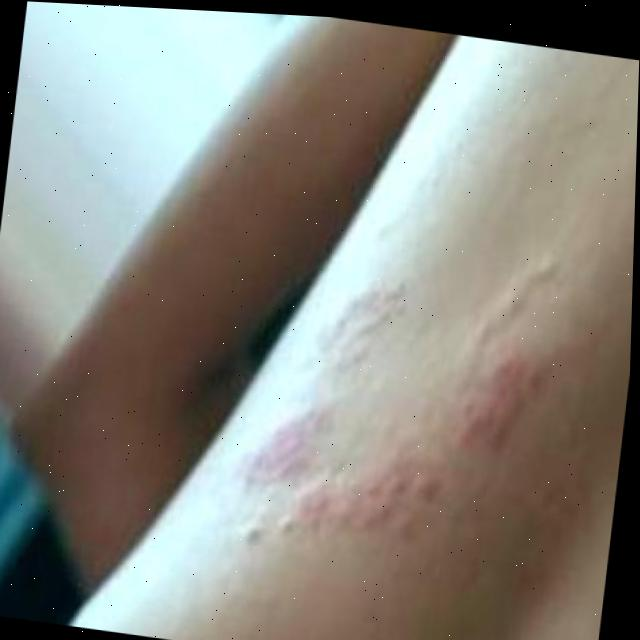Shingles: (232, 269, 581, 584)
